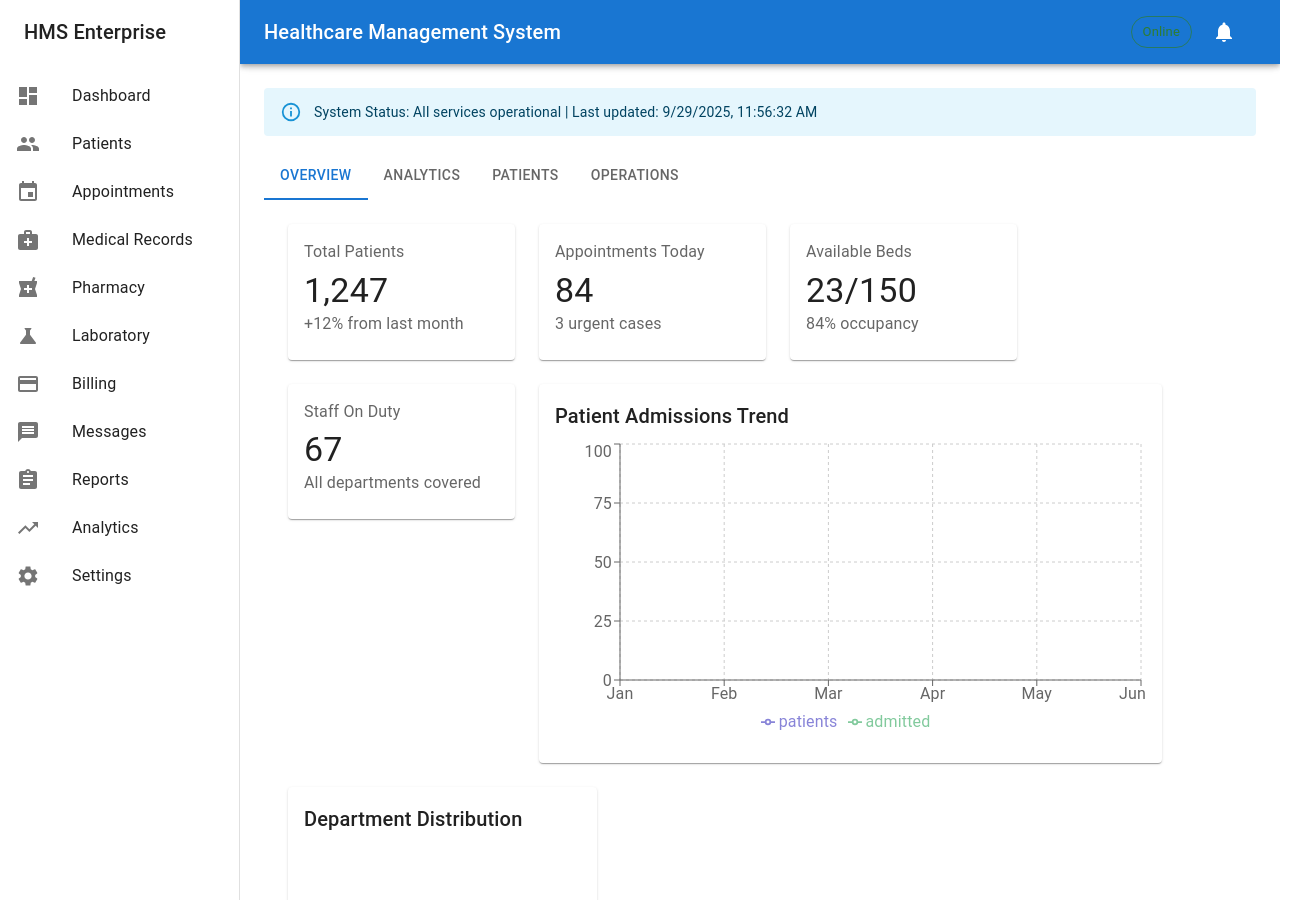
DashboardModule › tab switching works
expect the text "Total Patients" is shown: met, box x1=304 y1=242 x2=404 y2=261
Step 1. Click the tab "Analytics" → (422, 176), box x1=368 y1=152 x2=476 y2=200
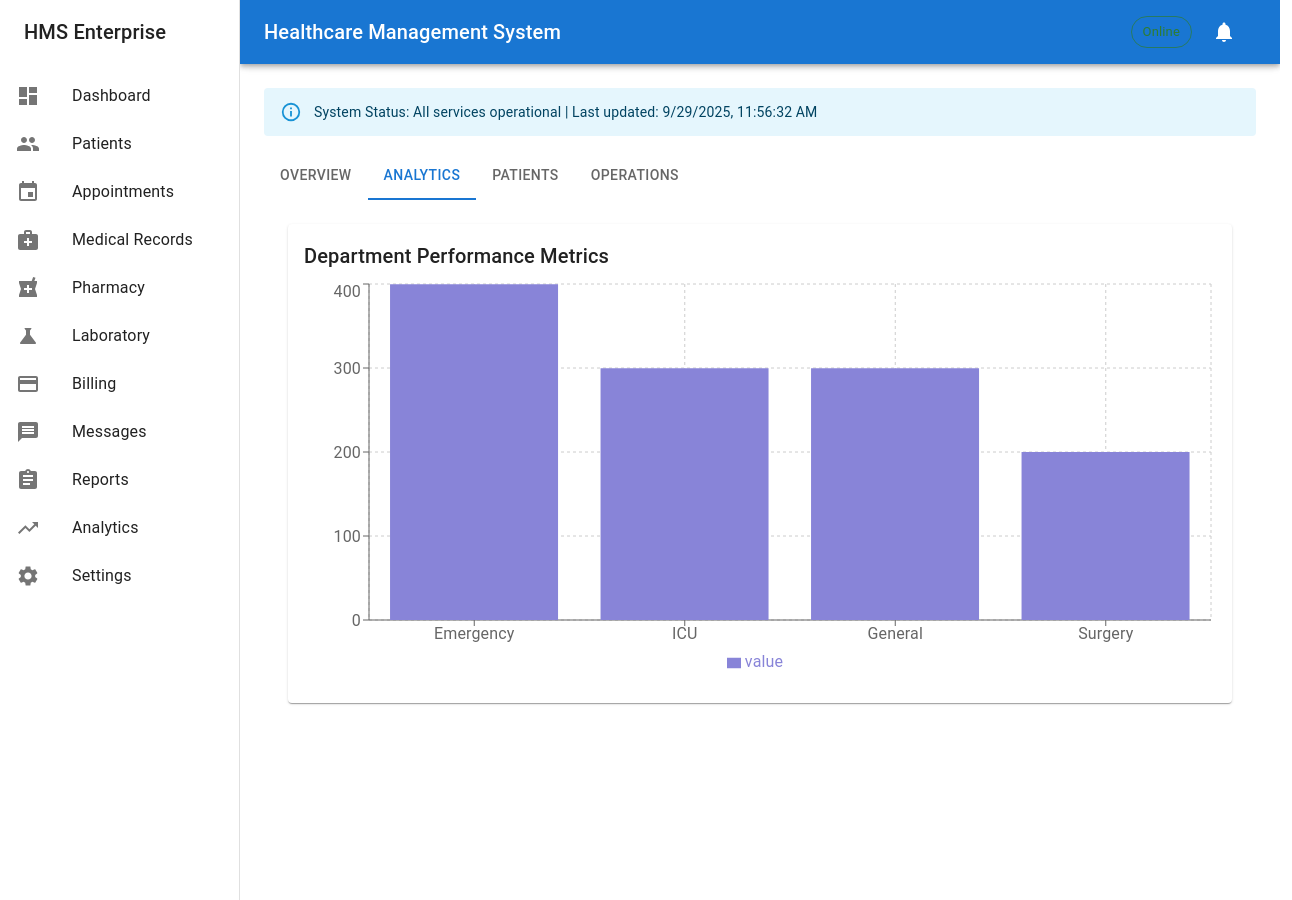
expect the heading "Department Performance Metrics" is shown: met, box x1=304 y1=244 x2=609 y2=268
